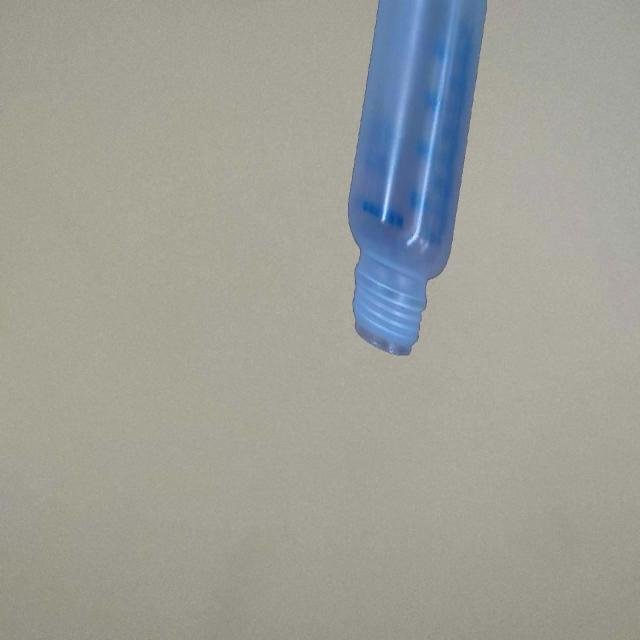bottle: (345, 0, 489, 359)
